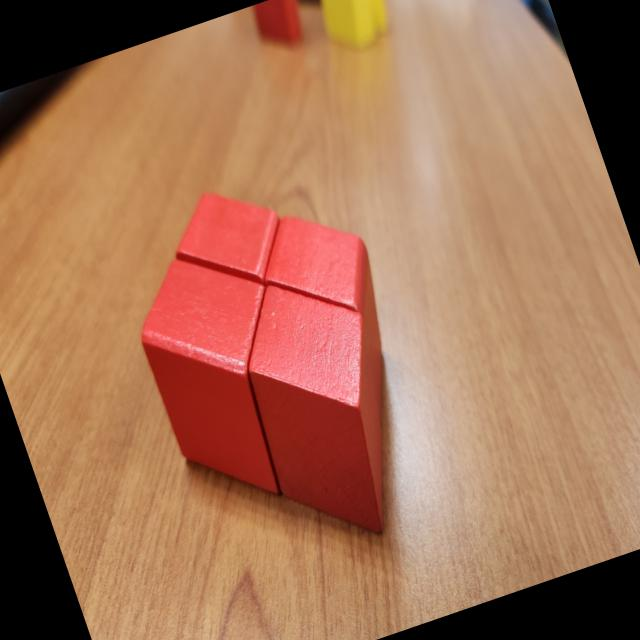red: (215, 258, 432, 560), (118, 233, 332, 522), (243, 193, 422, 445), (160, 172, 298, 309), (246, 0, 310, 55)
yellow: (308, 0, 387, 59), (355, 0, 398, 33)
